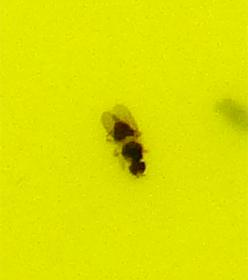Brachycera: (100, 100, 148, 180)
